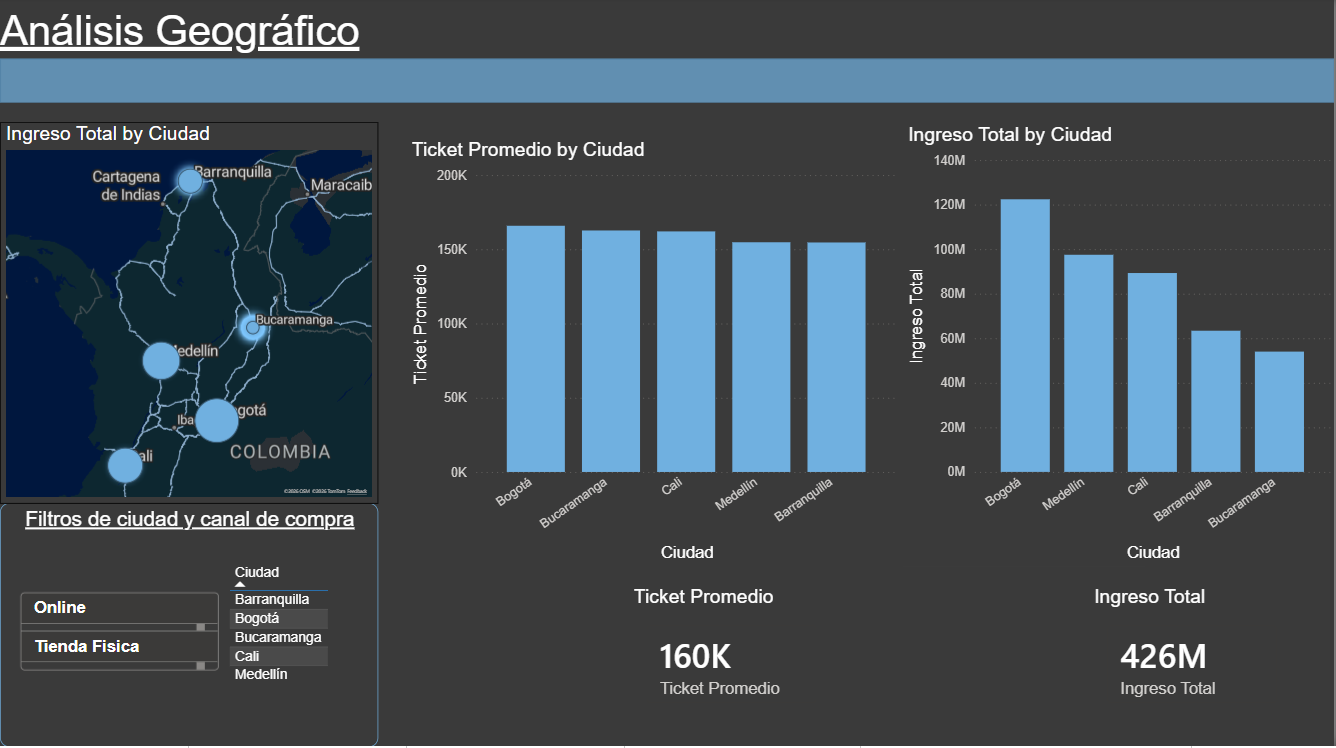

What the dashboard file says about the page in this screenshot:
{"tool":"powerbi","page":{"name":"Análisis Geográfico","canvas":[1280,720],"ordinal":2},"visuals":[{"type":"shape","title":"Filtros de ciudad y canal de compra","box":[0,486.7,362.7,233.8],"z":0},{"type":"columnChart","fields":{"Category":["Hoja2.Ciudad"],"Y":["Hoja2.Ingreso Total"]},"box":[865.3,122.5,415.1,424.7],"z":1000},{"type":"columnChart","fields":{"Category":["Hoja2.Ciudad"],"Y":["Hoja2.Ticket Promedio"]},"box":[389.7,136.8,475.6,410.4],"z":2000},{"type":"cardVisual","fields":{"Rows":["Hoja2.Canal"]},"box":[14.3,547.2,200.4,125.7],"z":3000},{"type":"cardVisual","title":"Ingreso Total","fields":{"Data":["Hoja2.Ingreso Total"]},"box":[1043.4,564.7,197.2,130.4],"z":4000},{"type":"textbox","box":[0,0,893.9,112.9],"z":5000},{"type":"tableEx","fields":{"Values":["Hoja2.Ciudad"]},"box":[214.7,539.2,122.5,181.3],"z":6000},{"type":"shape","title":"Análisis Geográfico","box":[0,9.5,1280.4,92.3],"z":7000},{"type":"azureMap","fields":{"Category":["Hoja2.Ciudad"],"Size":["TablaRetail.Ingreso Total"]},"box":[0,120.9,362.7,365.8],"z":8000},{"type":"cardVisual","title":"Ticket Promedio","fields":{"Data":["Hoja2.Ticket Promedio"]},"box":[602.8,564.7,197.2,130.4],"z":9000}]}

Visuals, with their boxes in screenshot pixels (x1, y1, x2, y2), scaled from the page's 1280x720 canvas onto the 1336x748 screenshot:
"Filtros de ciudad y canal de compra" shape: left=0, top=506, right=379, bottom=747
columnChart - Hoja2.Ciudad x Hoja2.Ingreso Total: left=903, top=127, right=1335, bottom=568
columnChart - Hoja2.Ciudad x Hoja2.Ticket Promedio: left=407, top=142, right=903, bottom=568
cardVisual - Hoja2.Canal: left=15, top=568, right=224, bottom=699
"Ingreso Total" cardVisual: left=1089, top=587, right=1295, bottom=722
textbox: left=0, top=0, right=933, bottom=117
tableEx - Hoja2.Ciudad: left=224, top=560, right=352, bottom=747
"Análisis Geográfico" shape: left=0, top=10, right=1335, bottom=106
azureMap - Hoja2.Ciudad x TablaRetail.Ingreso Total: left=0, top=126, right=379, bottom=506
"Ticket Promedio" cardVisual: left=629, top=587, right=835, bottom=722
